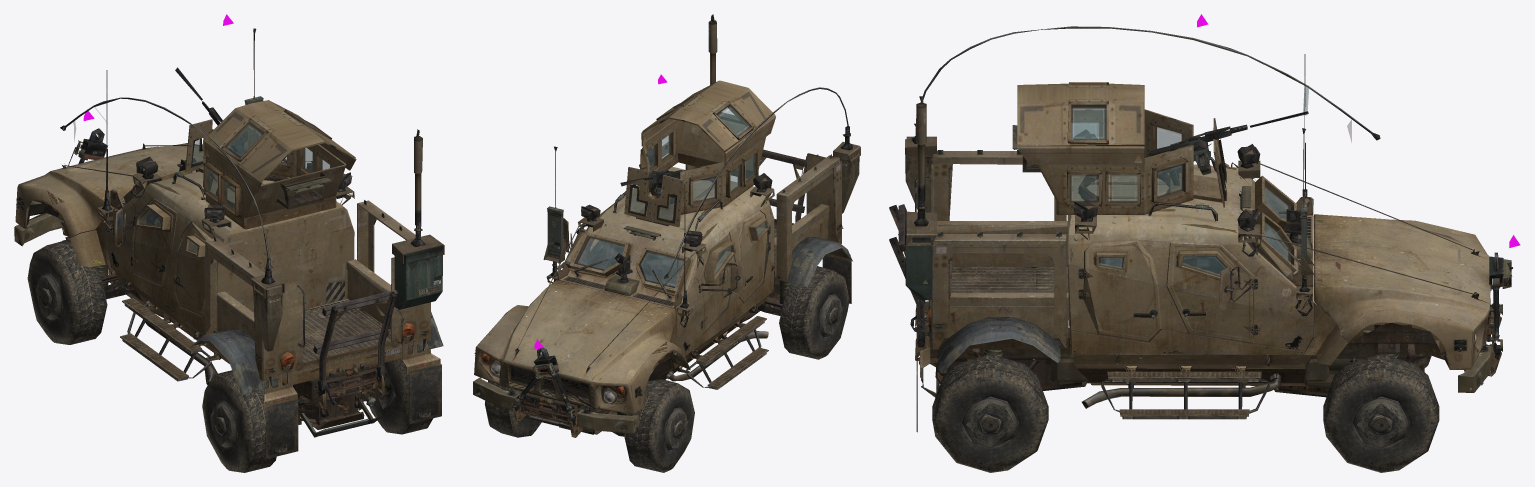
Rendered from jeep.glb.
The picture shows the model from 3 angles, left to right: view 1: azimuth 30°, elevation 25°; view 2: azimuth 150°, elevation 25°; view 3: azimuth 270°, elevation 25°; orthographic projection. The views are drawn at different scales.
Visible parts, largest first — view 1: Body_1, Turret_1, Body_2, Turret_3, Turret_2; view 2: Body_1, Turret_1, Body_2, Body_3, Turret_3, Turret_2; view 3: Body_1, Body_2, Turret_1, Turret_3, Body_3, Turret_2.
Part boxes in pixels (box(x1,y1,x2,y2)): Body_1: box(14, 28, 444, 459); Turret_1: box(185, 100, 356, 229); Body_2: box(27, 240, 432, 472); Turret_3: box(192, 116, 329, 212); Turret_2: box(175, 67, 247, 157); Body_1: box(473, 14, 860, 437); Turret_1: box(624, 80, 775, 227); Body_2: box(485, 266, 849, 472); Body_3: box(557, 223, 765, 287); Turret_3: box(630, 99, 755, 221); Turret_2: box(620, 169, 681, 203); Body_1: box(889, 26, 1512, 432); Body_2: box(932, 354, 1439, 472); Turret_1: box(1012, 82, 1226, 214); Turret_3: box(1070, 105, 1225, 202); Body_3: box(1099, 85, 1351, 276); Turret_2: box(1146, 111, 1308, 185).
Bounding box in the file's own units: 5.59 × 9.4 × 13.15.
5 materials, 4 textured.
